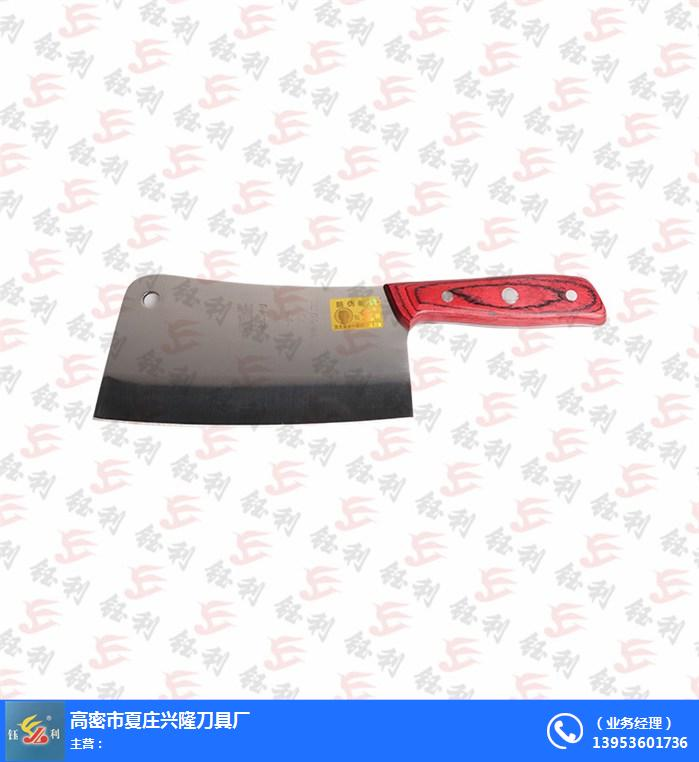knief: (65, 255, 643, 419)
